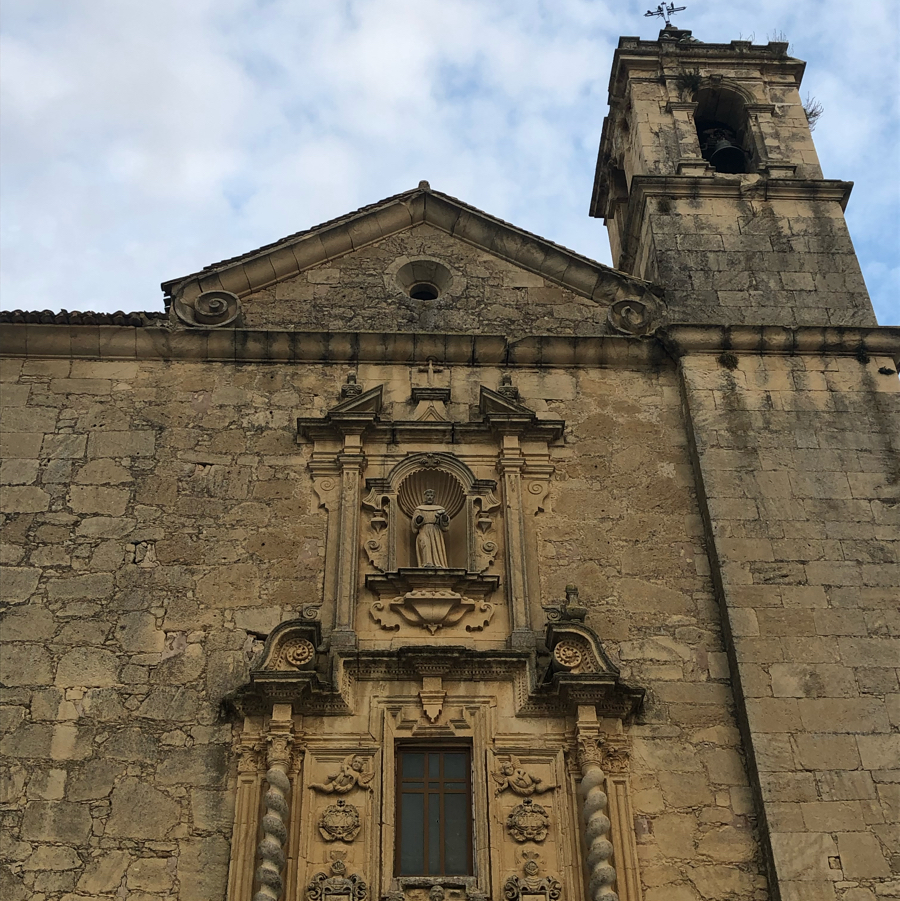columna-salomonica: (250, 753, 297, 901), (576, 770, 620, 901)
fronton-partido: (246, 615, 626, 697), (318, 384, 549, 430)
ojo-de-buey: (393, 261, 451, 302)
vano-adintelado: (377, 722, 488, 884)
